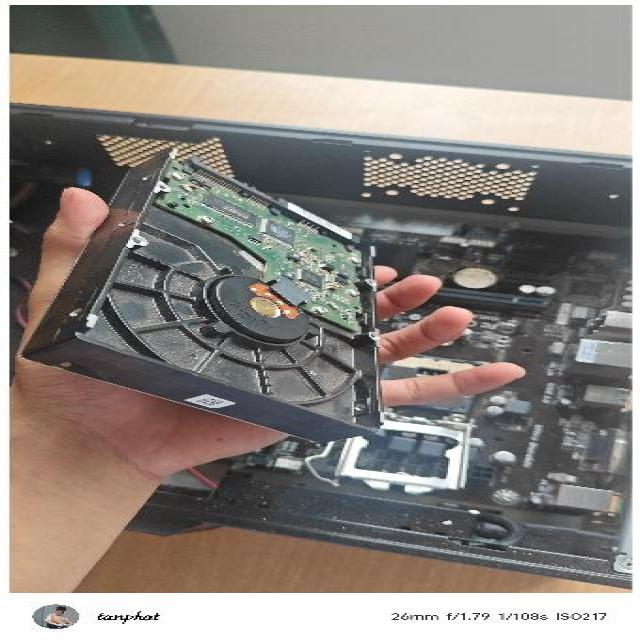DISK: (19, 146, 390, 448)
